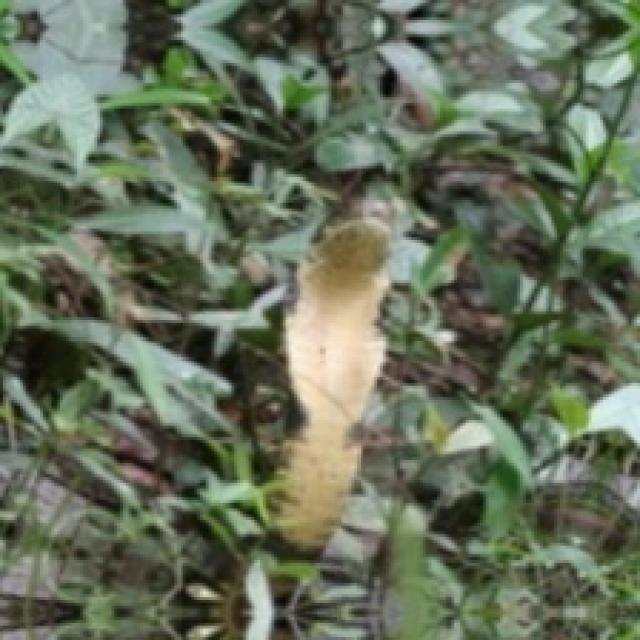king cobra: (271, 217, 386, 546)
